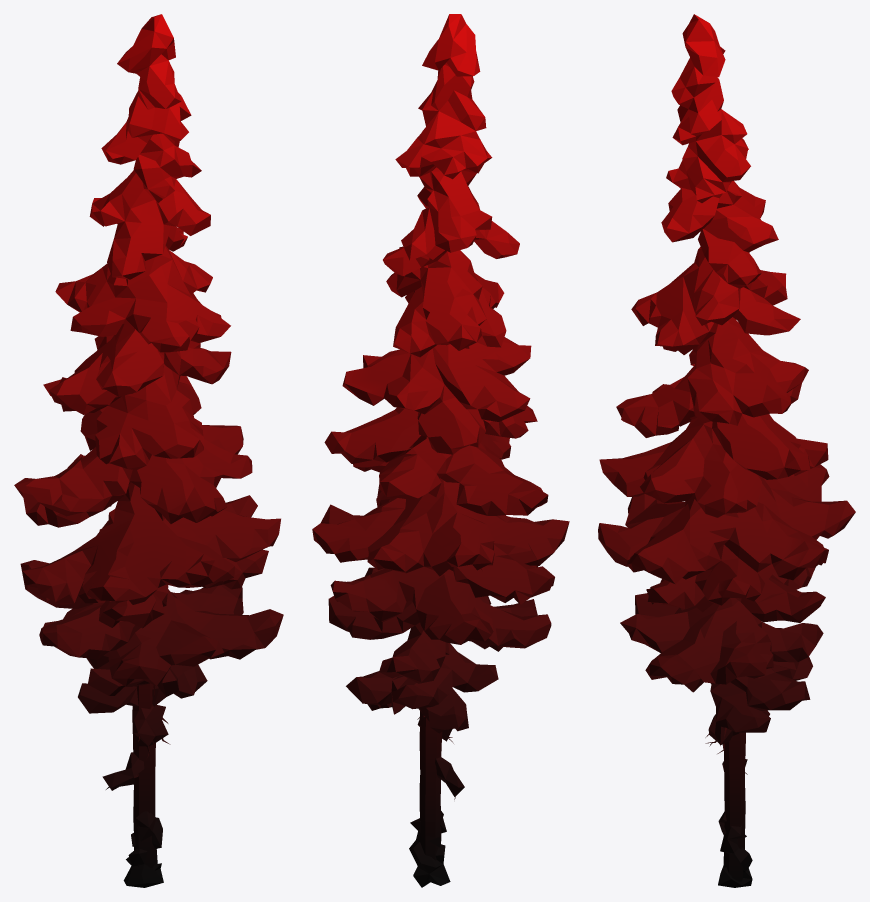
File: TreeSpruceTall03_Snow.fbx
3 views of the same model, side by side, from view 1: azimuth 30°, elevation 25°; view 2: azimuth 150°, elevation 25°; view 3: azimuth 270°, elevation 25° (orthographic). The views are drawn at different scales.
Parts seen in each view (by area): view 1: TreeSpruceTall03_Snow_LOD0; view 2: TreeSpruceTall03_Snow_LOD0; view 3: TreeSpruceTall03_Snow_LOD0.
Boxes of the visible parts, box(x1,y1,x2,y2) form: TreeSpruceTall03_Snow_LOD0: box(14, 14, 283, 887); TreeSpruceTall03_Snow_LOD0: box(312, 14, 569, 887); TreeSpruceTall03_Snow_LOD0: box(598, 14, 855, 887).
Size of what is drawn, in the model's own units: 353 by 1289 by 348.
